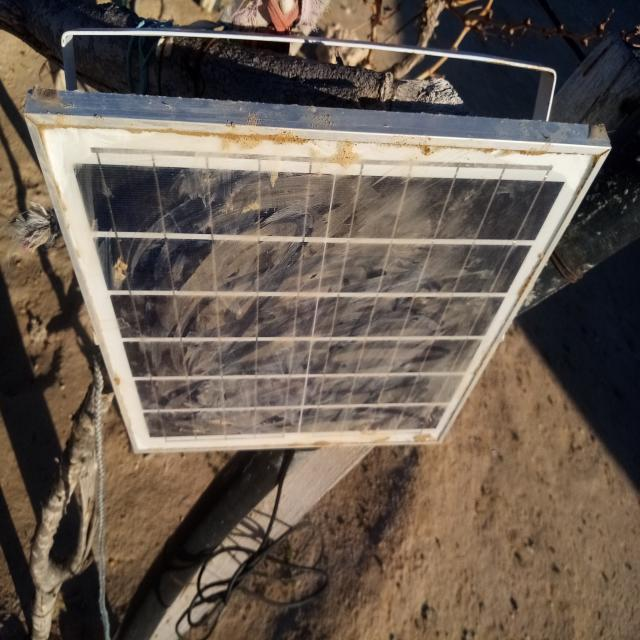faulty: (29, 117, 608, 453)
